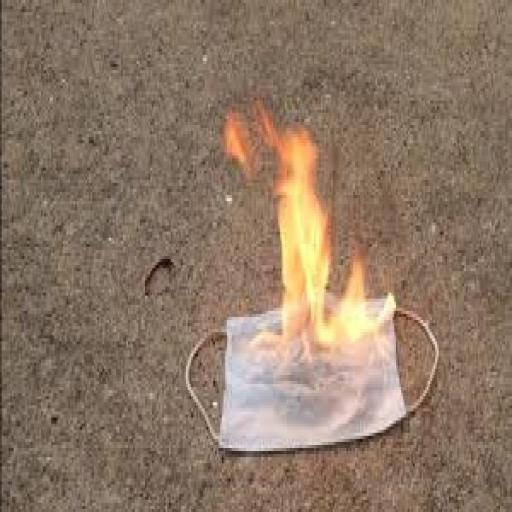fire: (251, 101, 374, 357), (224, 110, 253, 177)
